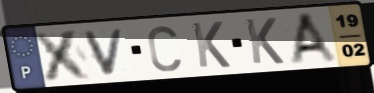A: (288, 10, 342, 65)
C: (145, 24, 183, 74)
K: (242, 16, 286, 66), (189, 20, 233, 69)
V: (81, 26, 128, 77)
X: (31, 27, 96, 83)
